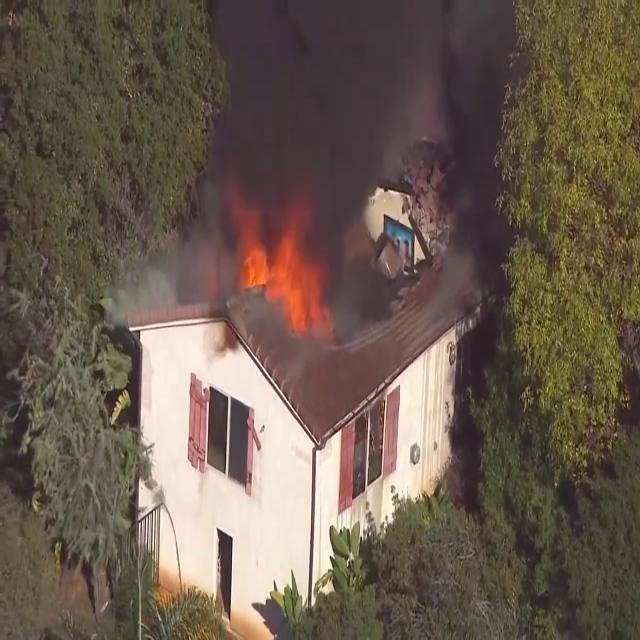Fire: (238, 210, 334, 338)
Smoke: (156, 1, 496, 338)
